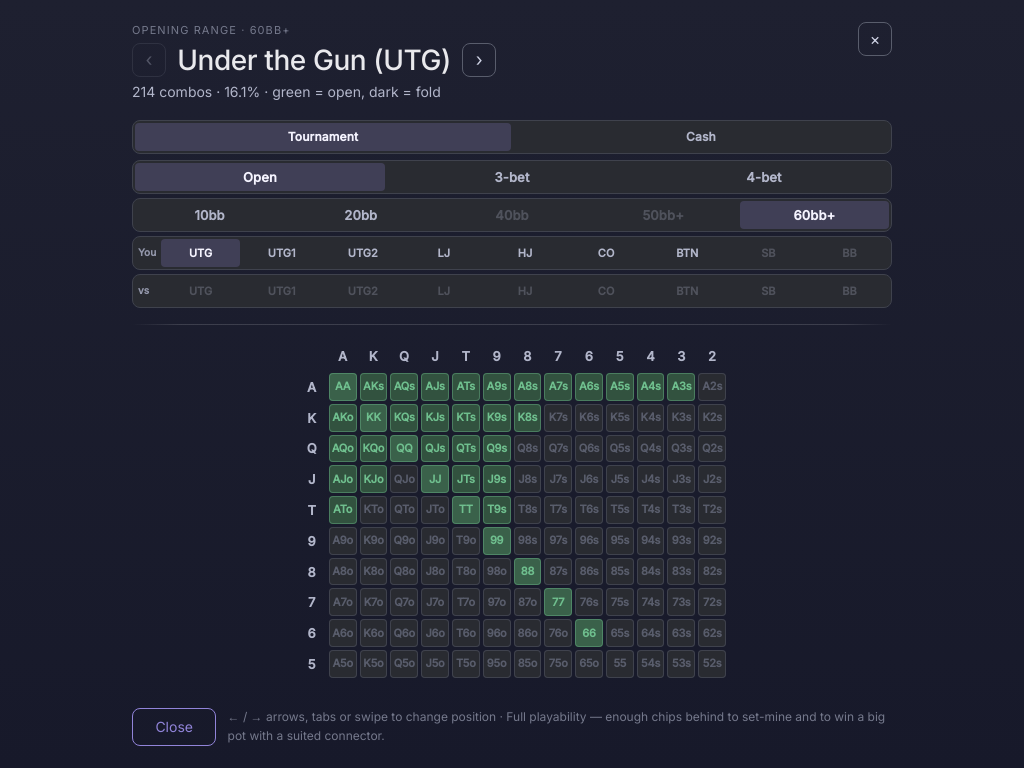
Test: ChartBrowser (menu) › drops Stack and the 9-max seats on cash, and keeps the tournament tier and seat for the way back
Click the tab "20bb" at [361, 214], box [286,200,435,228]
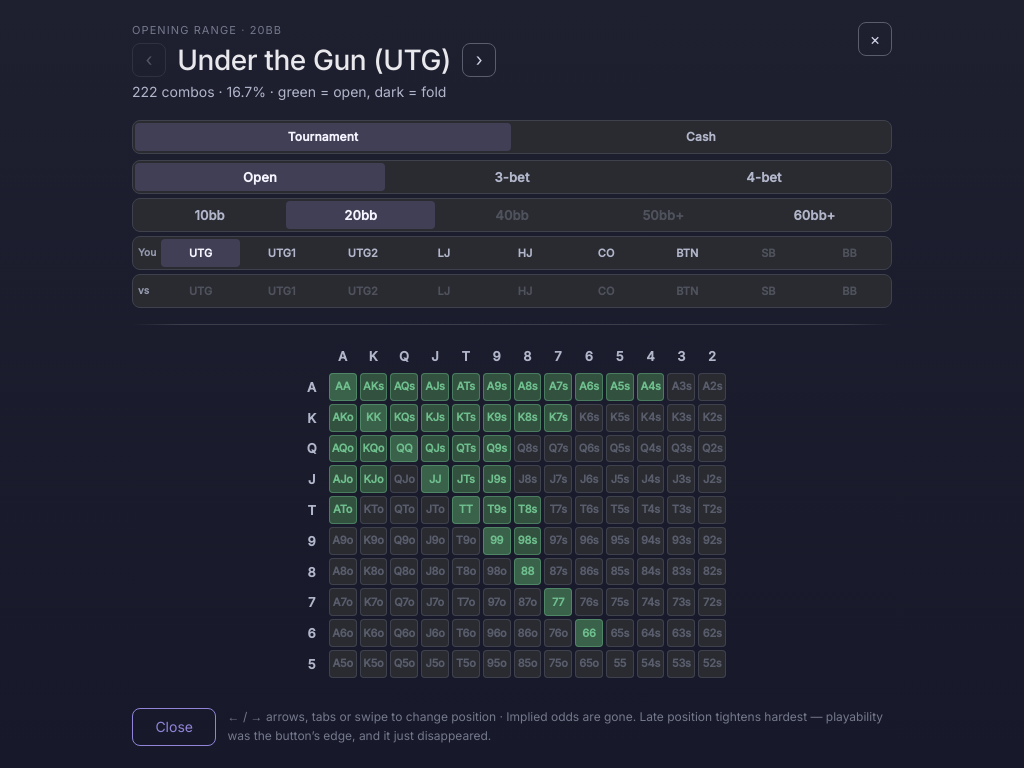
Click the tab "CO" in the row of "You" at [606, 252], box [566,238,646,266]
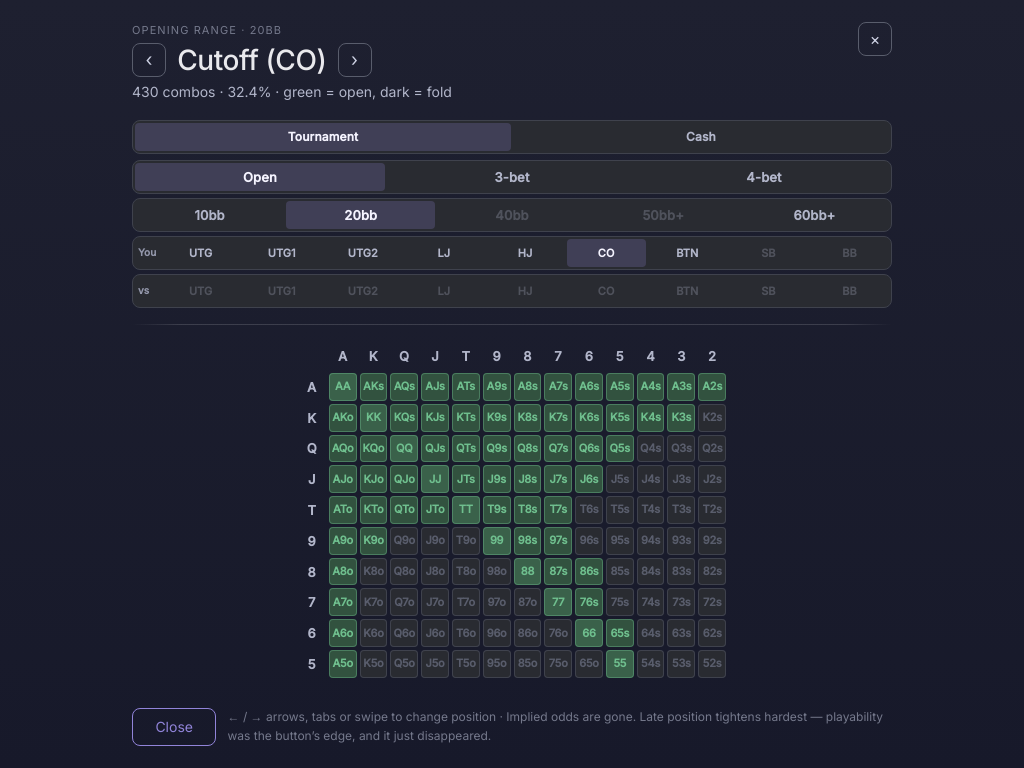
Click the tab "Cash" at [701, 137], box [513,123,889,151]
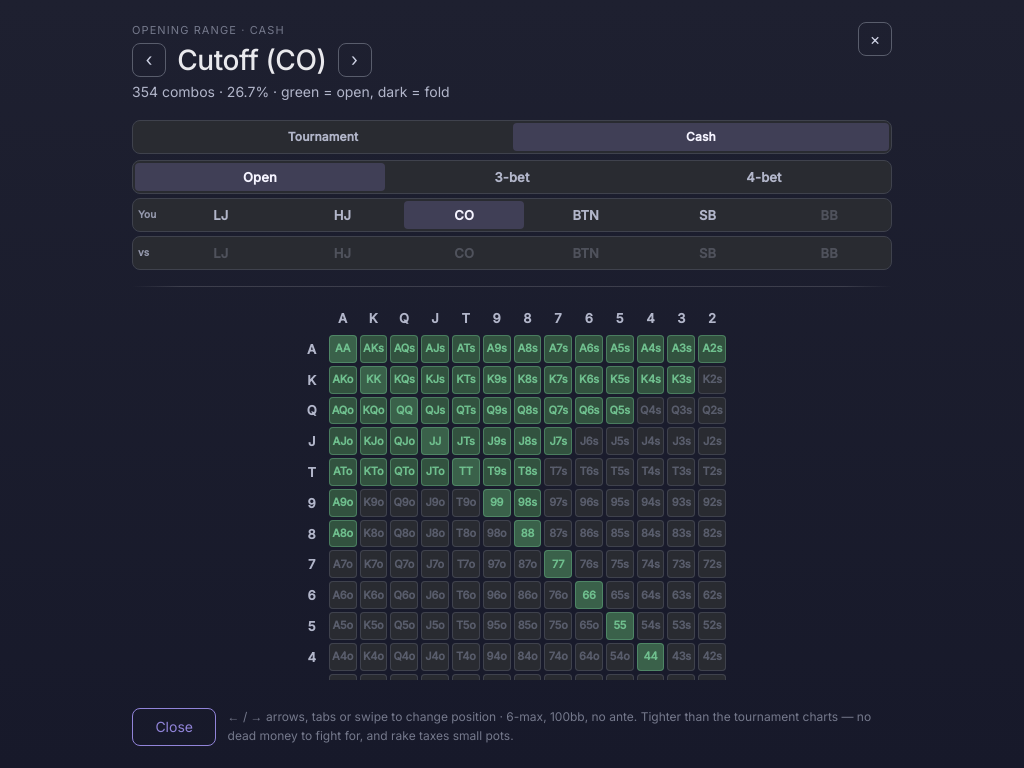
Now the element "Stack" is gone
Click the tab "Tournament" at [323, 137], box [135,123,511,151]
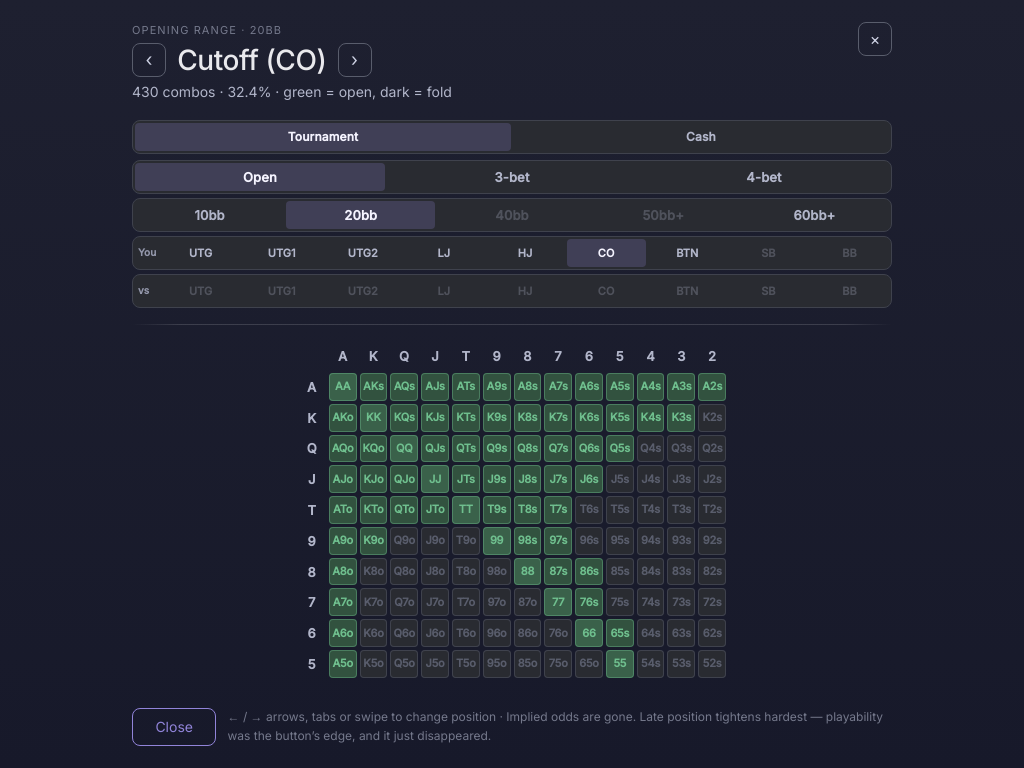
Now the tab "20bb" is shown, box [286,200,435,228]
